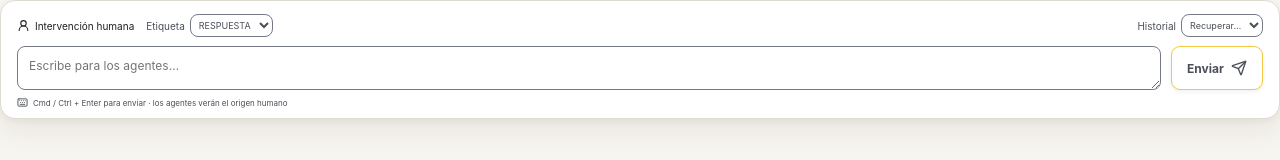
Test: failed send keeps the draft and displays error; empty never sends
Press Enter in the text box named "Mensaje", box [17,46,1161,90]
Type "Borrador" into the text box named "Mensaje" at (589, 68), box [17,46,1161,90]
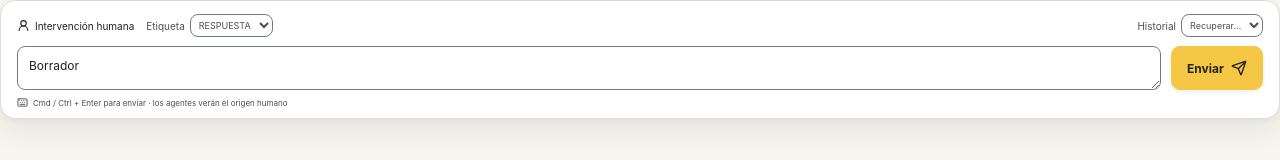
Press Enter in the text box named "Mensaje", box [17,46,1161,90]
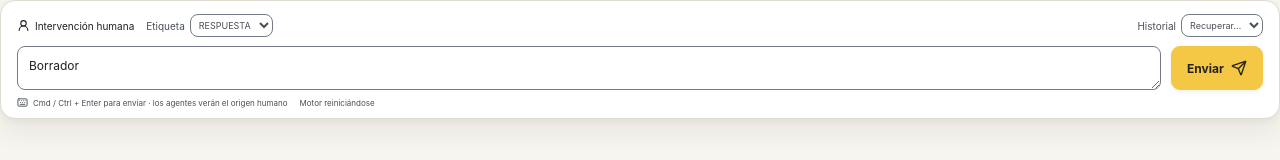
Check: the message "Motor reiniciándose" is shown, box [300,97,375,108]
